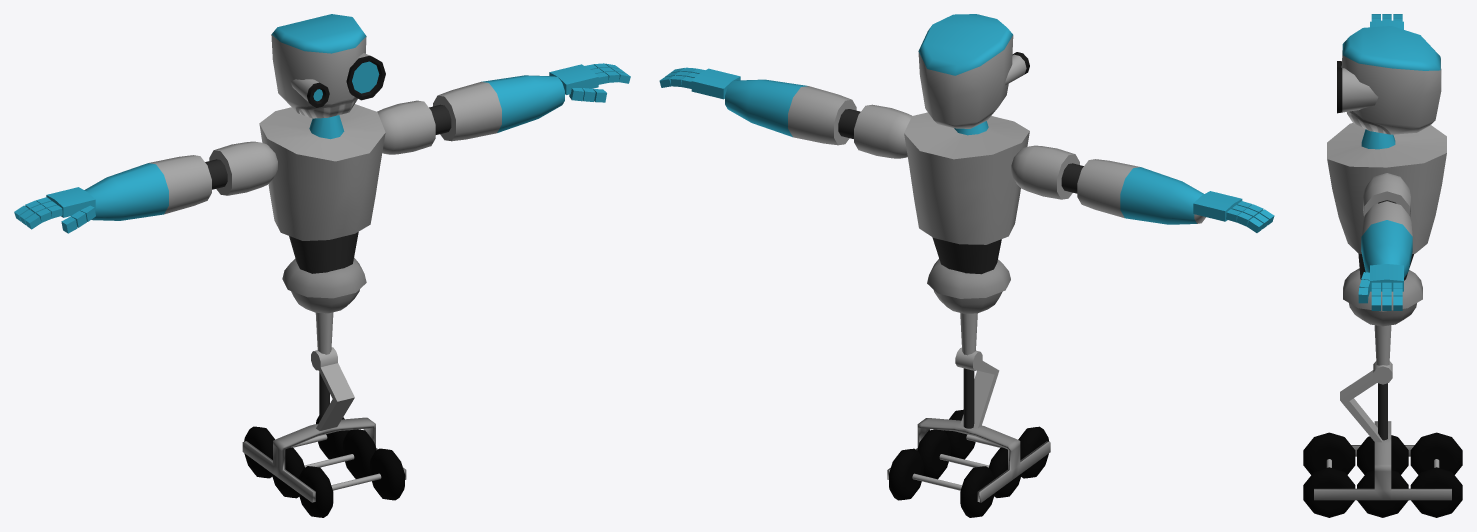
File: Blue_Robot.fbx
The picture shows the model from 3 angles, left to right: view 1: azimuth 30°, elevation 25°; view 2: azimuth 150°, elevation 25°; view 3: azimuth 270°, elevation 25°; orthographic projection.
Parts seen in each view (by area): view 1: Robot; view 2: Robot; view 3: Robot.
Part boxes in pixels (x1,y1,x2,y2): Robot: (14,14,630,517); Robot: (659,14,1274,517); Robot: (1303,14,1462,517).
Bounding box in the file's own units: 215 × 158 × 49.59.
